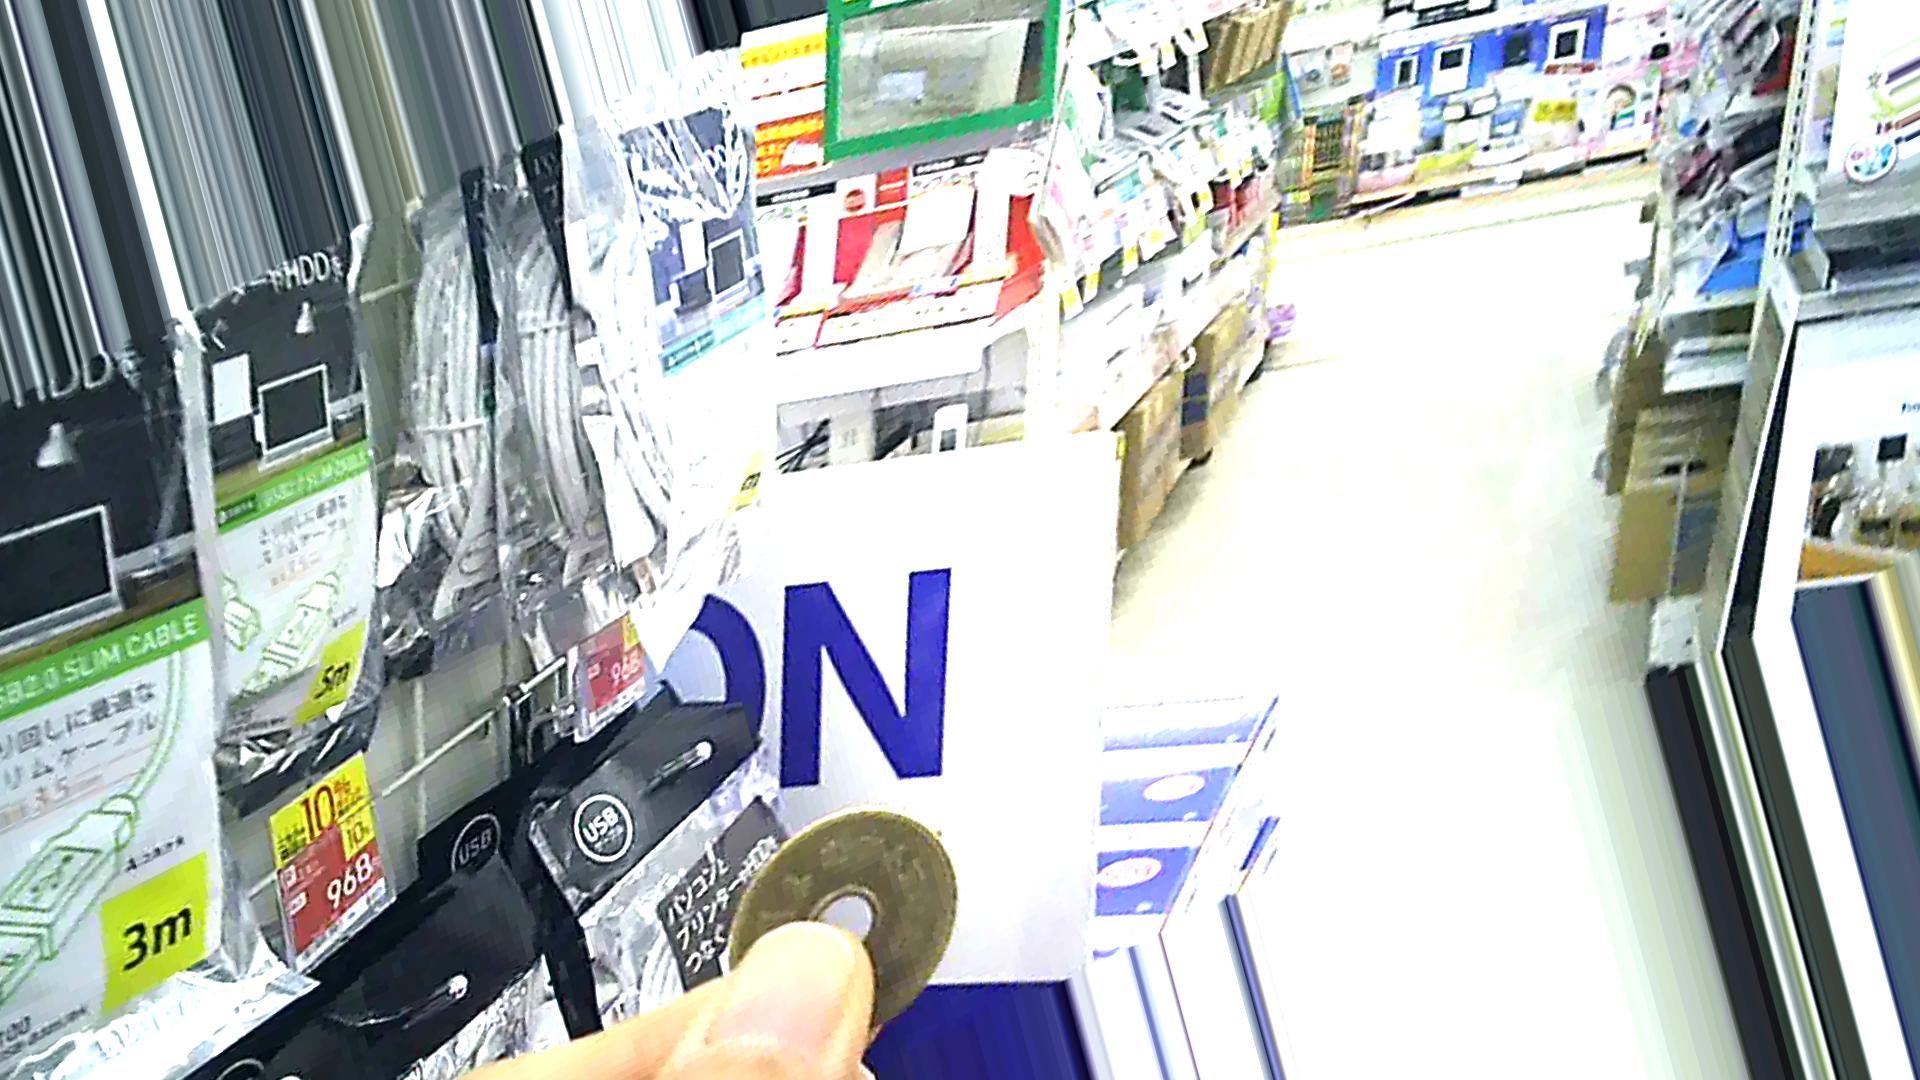5 Yen: (704, 806, 963, 1040)
